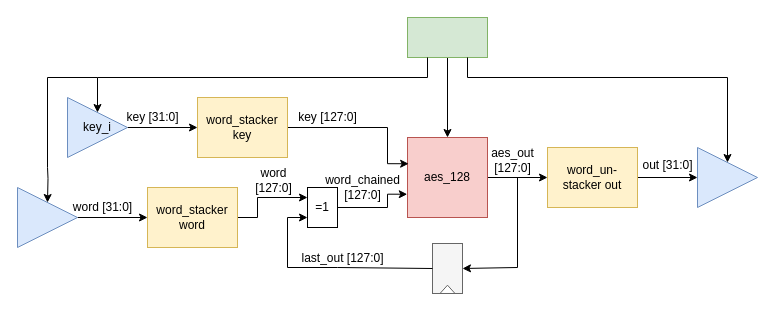
This 775x311 diagram has some shape labels left out. The centre of each missing label's shape, as x and y in pixels:
FSM: point 447,37
out: point 727,177
word_i: point 47,217
